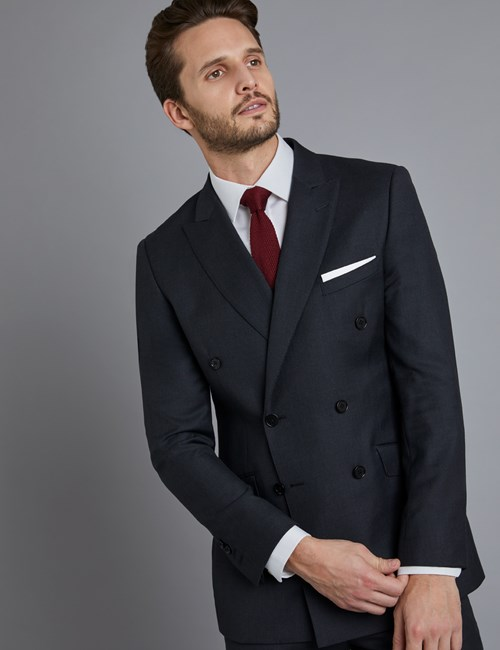F_M_suit jacket: (121, 157, 490, 606)
F_shirt: (197, 139, 302, 284)
F_tie: (234, 186, 291, 284)
